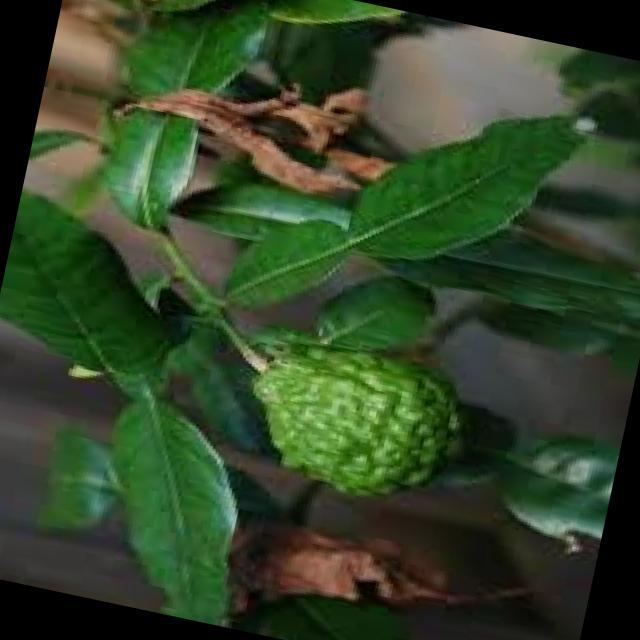Chuc: (228, 326, 476, 514)
